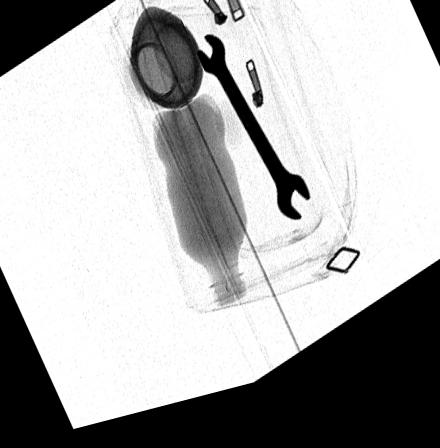Wrench: (192, 40, 312, 236)
